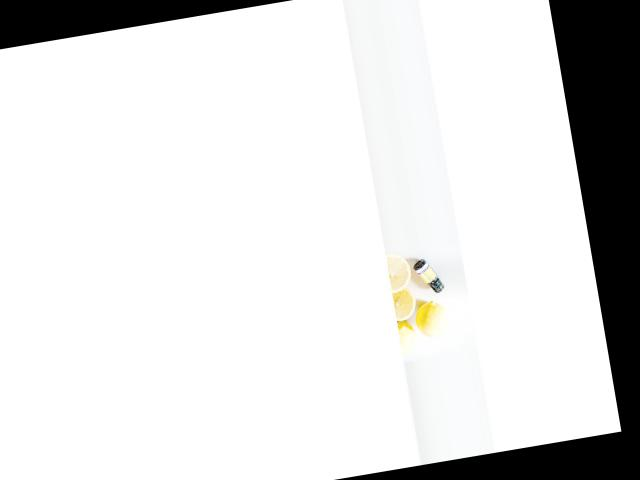lemon: (416, 299, 447, 339)
